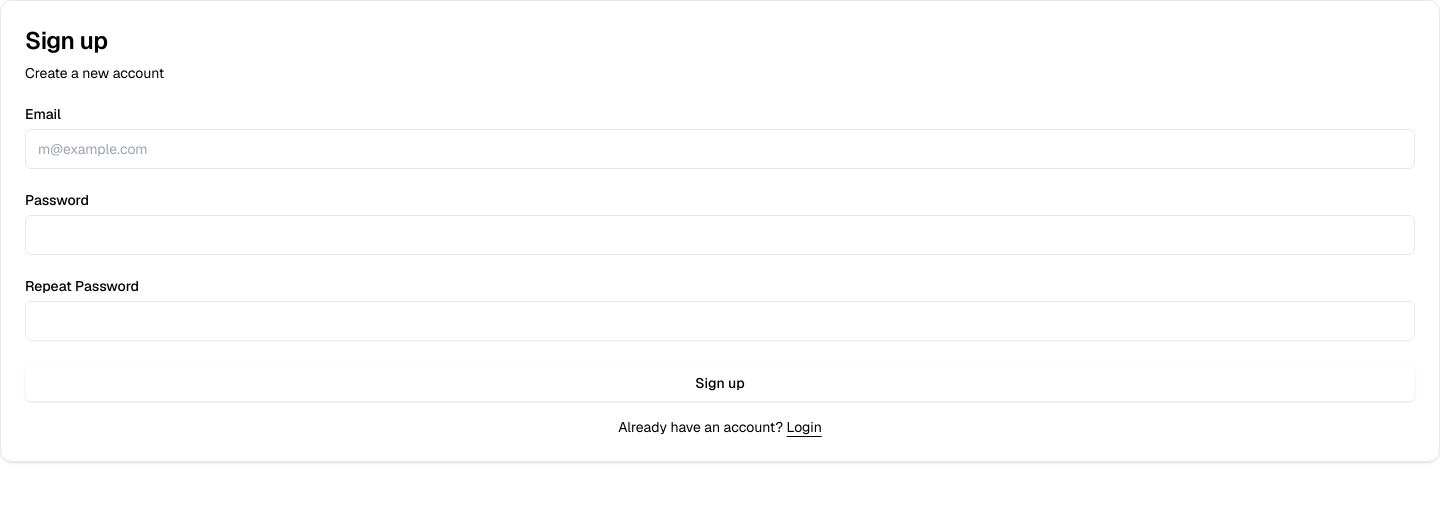
Scenario: SignUpForm › показывает ошибку при несовпадении паролей
In the field labelled "Email": x=720, y=149 [25, 129, 1415, 169], type "a@a.com"
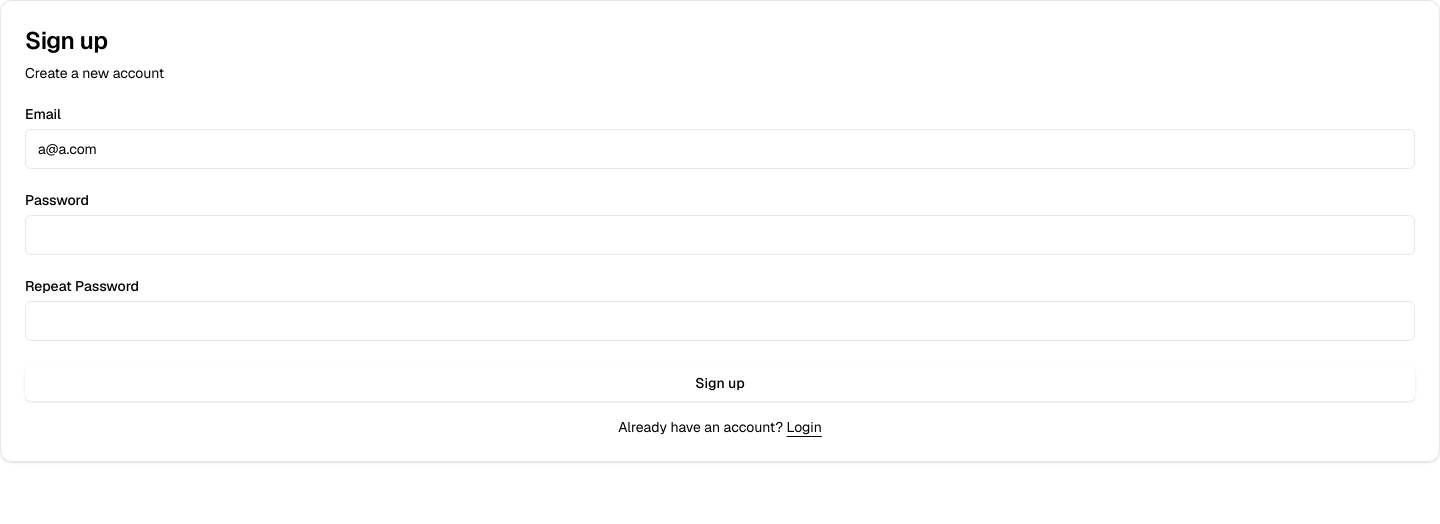
In the password field labelled "Password": x=720, y=235 [25, 215, 1415, 255], type "123"
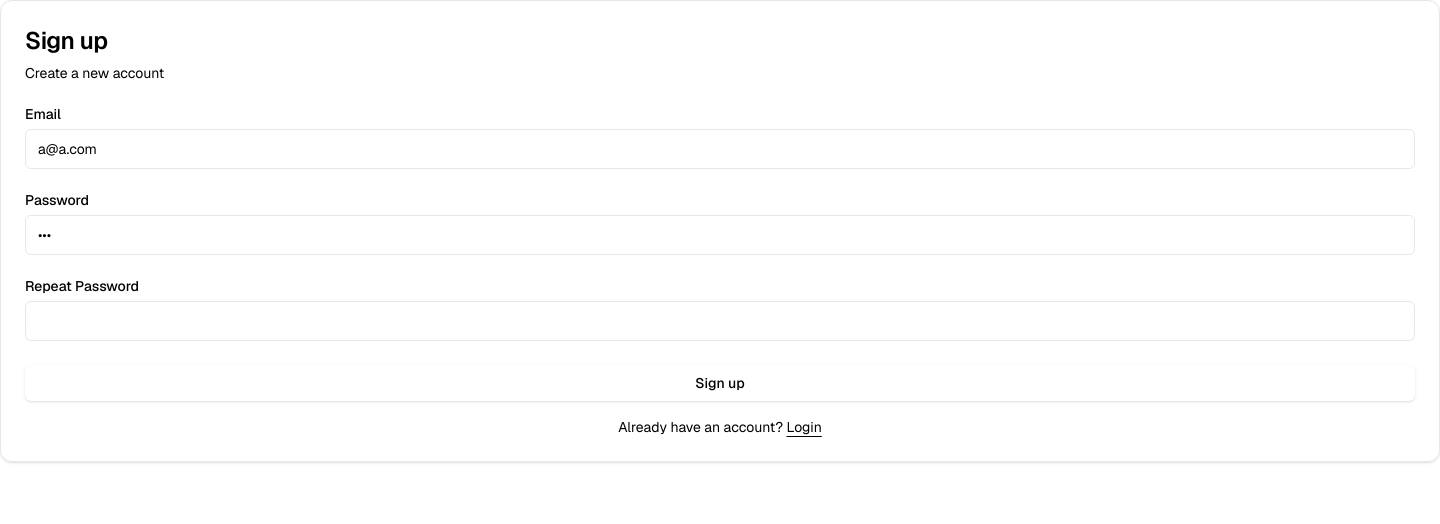
In the password field labelled "Repeat Password": x=720, y=321 [25, 301, 1415, 341], type "456"
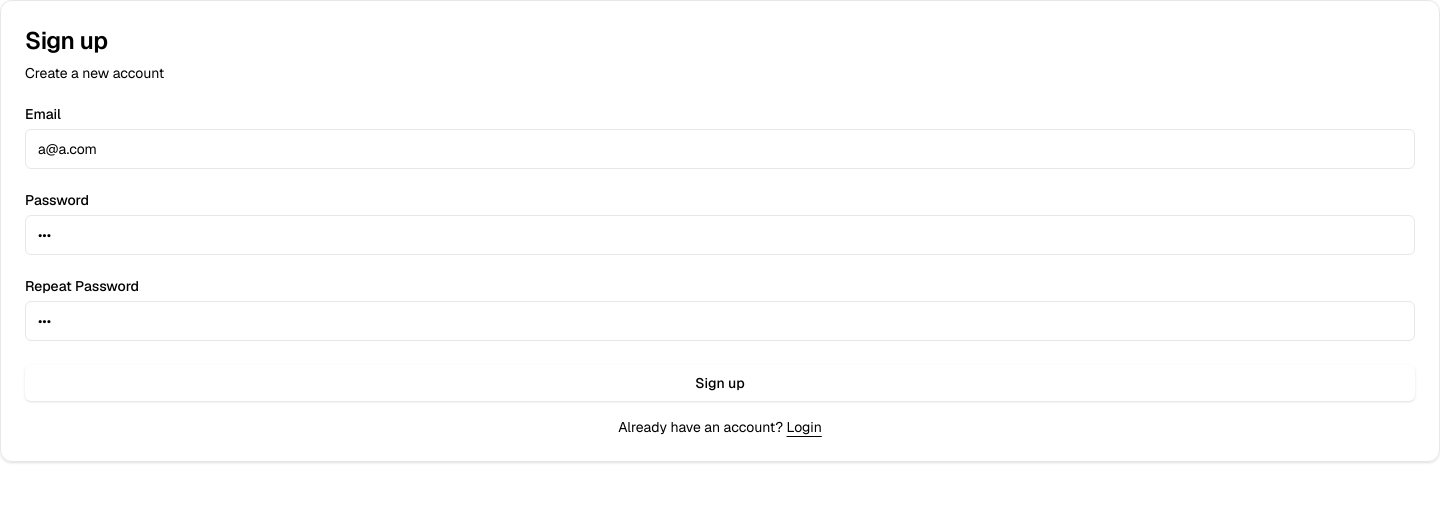
Submit the form with test id "sign-up-form"
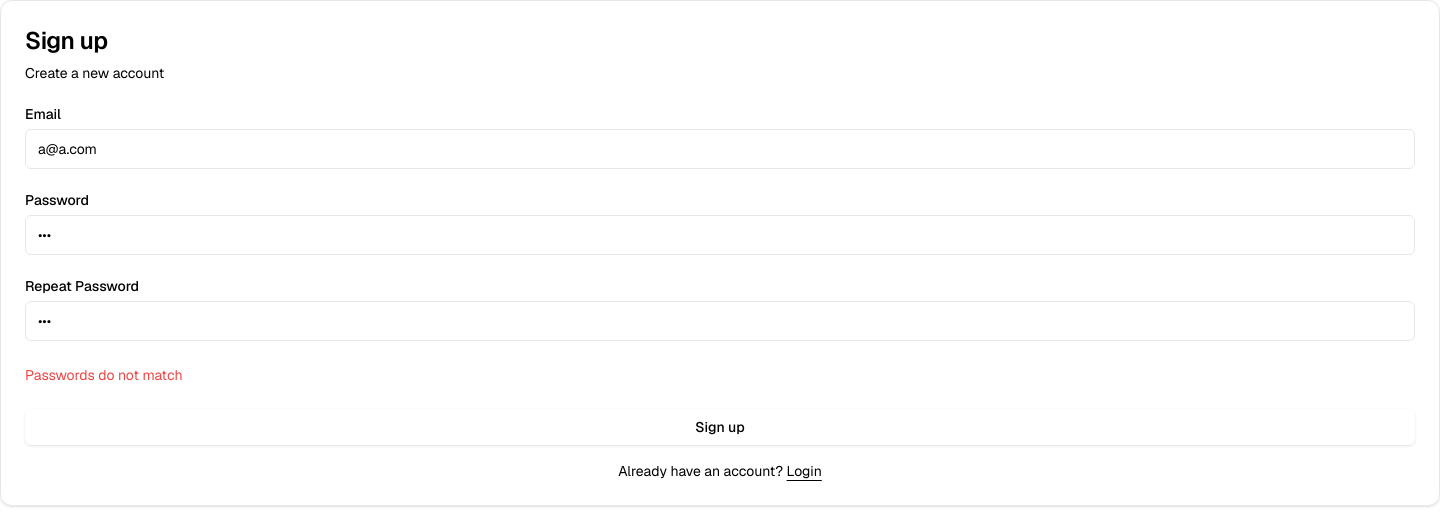
Now the text "Passwords do not match" is shown, box [25, 366, 182, 384]
